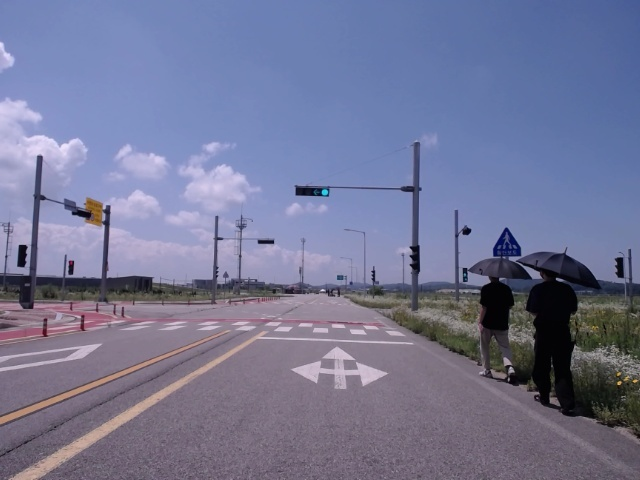all_green_4: (294, 184, 334, 198)
